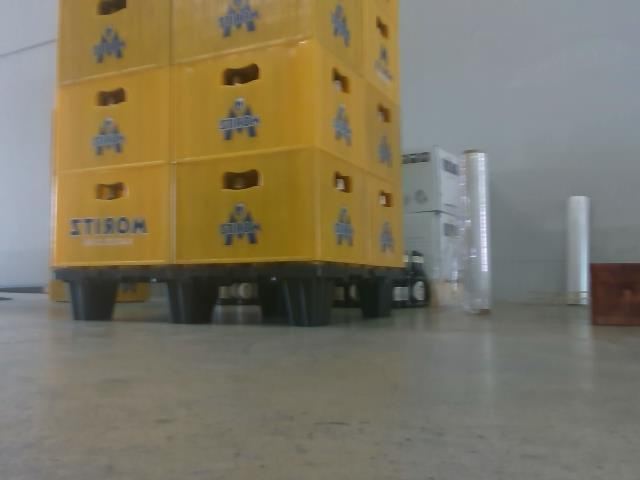block: (265, 272, 335, 329), (167, 279, 221, 326), (66, 280, 120, 321)
front: (49, 256, 322, 332)
hole pallet: (106, 279, 176, 324), (209, 284, 273, 320)
